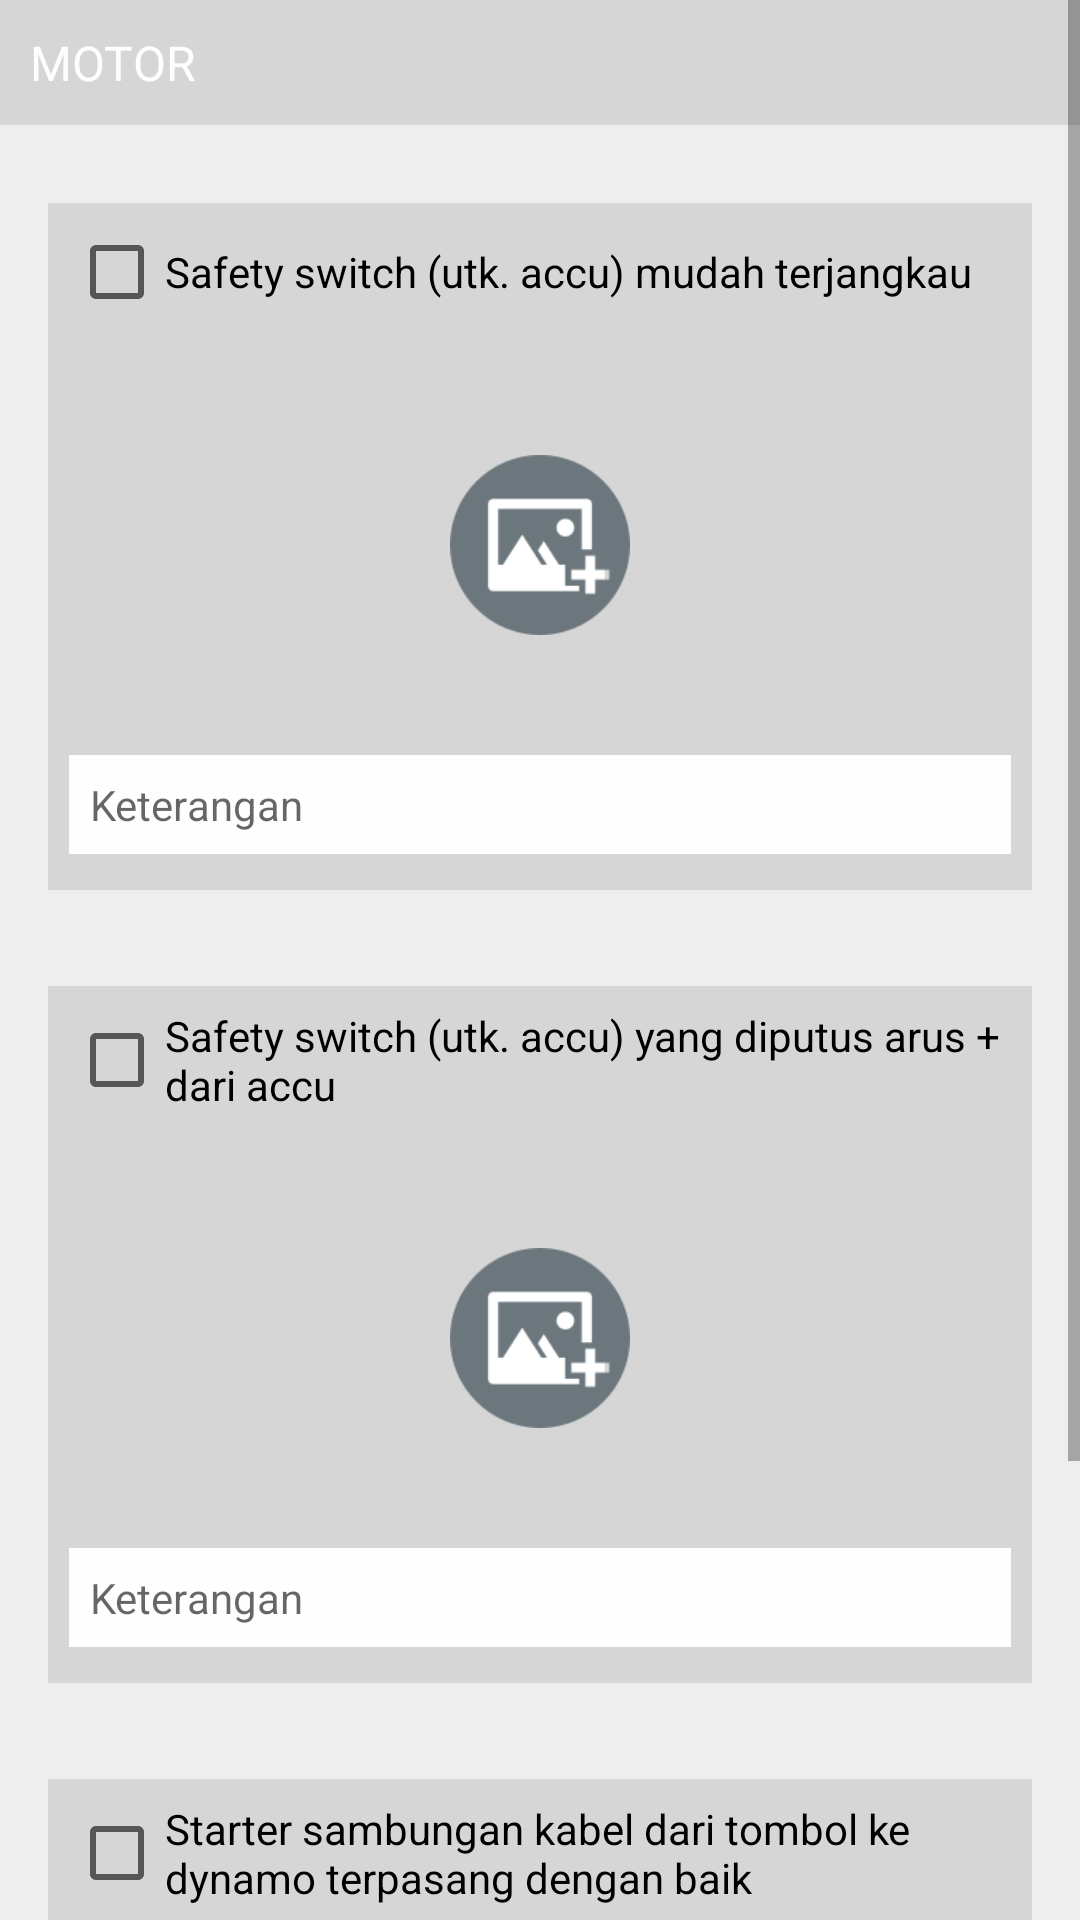

Named icons in this screenshot (1080×1920) and their bounding boxes, (x1, y1, x2, y2):
add: (450, 455, 630, 635), (450, 1248, 630, 1428)
